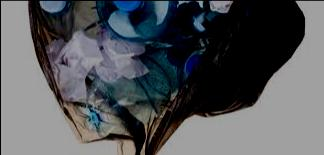Plastic: (96, 1, 188, 48)
